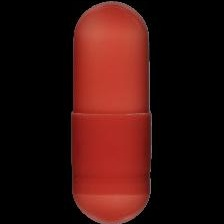49999-906: (0, 0, 224, 224)
